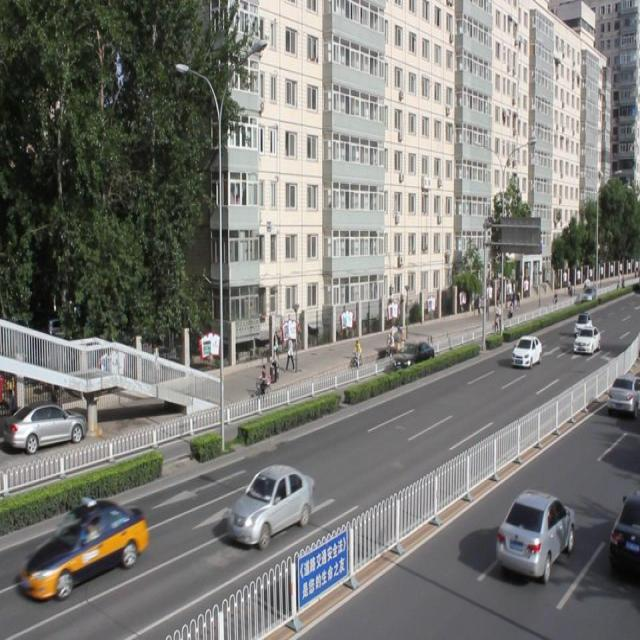car: (24, 500, 147, 599), (225, 463, 314, 549), (494, 486, 573, 578), (606, 492, 640, 570), (605, 373, 640, 415), (393, 338, 434, 372), (509, 334, 541, 368)
